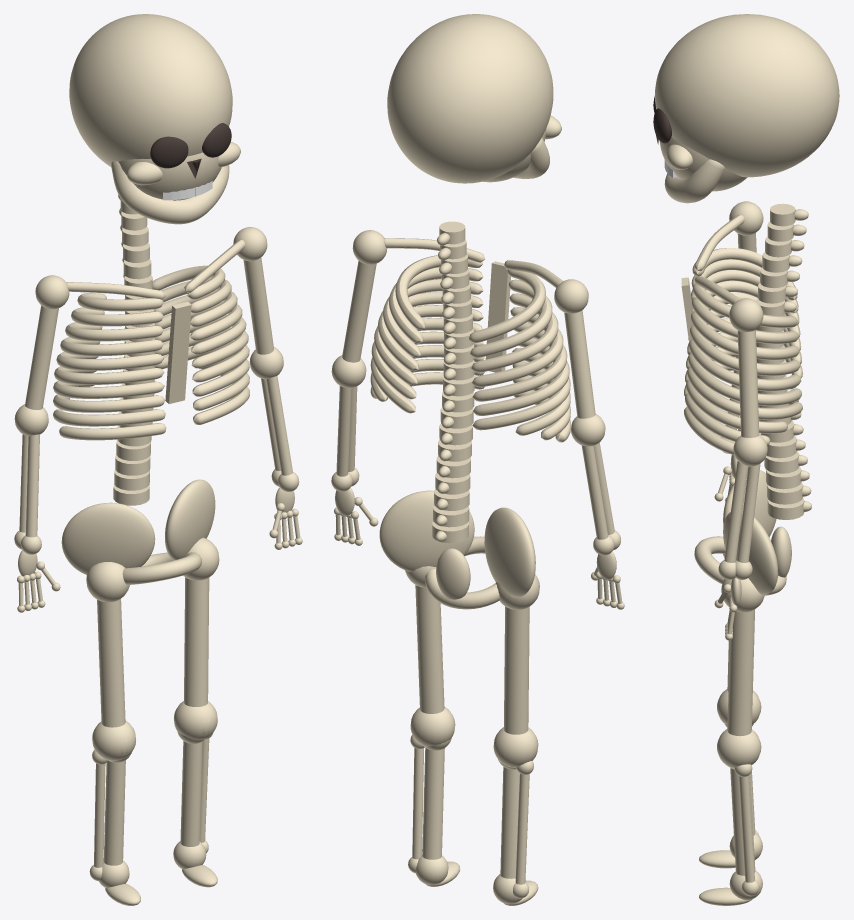
The model's file is esqueletico.glb.
3 renders of one model, left to right at view 1: azimuth 30°, elevation 25°; view 2: azimuth 150°, elevation 25°; view 3: azimuth 270°, elevation 25°, orthographic.
Visible parts, largest first — view 1: esqueleto, cranio (×2), caixa_toracica, ilio (×2), mandibula, esterno; view 2: esqueleto, cranio (×2), caixa_toracica, ilio (×2), esterno, mandibula; view 3: esqueleto, cranio (×2), caixa_toracica, ilio (×2), mandibula, esterno.
Part boxes in pixels (x1=…): esqueleto: x1=14, y1=195, x2=302, y2=905; cranio (×2): x1=69, y1=14, x2=240, y2=200; caixa_toracica: x1=53, y1=265, x2=249, y2=440; ilio (×2): x1=61, y1=479, x2=215, y2=574; mandibula: x1=111, y1=161, x2=229, y2=224; esterno: x1=165, y1=301, x2=191, y2=403; esqueleto: x1=331, y1=221, x2=624, y2=905; cranio (×2): x1=387, y1=14, x2=561, y2=183; caixa_toracica: x1=370, y1=255, x2=570, y2=442; ilio (×2): x1=379, y1=490, x2=535, y2=597; esterno: x1=485, y1=261, x2=510, y2=372; mandibula: x1=513, y1=137, x2=549, y2=178; esqueleto: x1=694, y1=201, x2=811, y2=905; cranio (×2): x1=653, y1=14, x2=839, y2=191; caixa_toracica: x1=684, y1=248, x2=802, y2=455; ilio (×2): x1=723, y1=470, x2=778, y2=594; mandibula: x1=664, y1=159, x2=725, y2=203; esterno: x1=681, y1=277, x2=693, y2=353.
Bounding box in the file's own units: 0.2074 × 0.6 × 0.1171.
